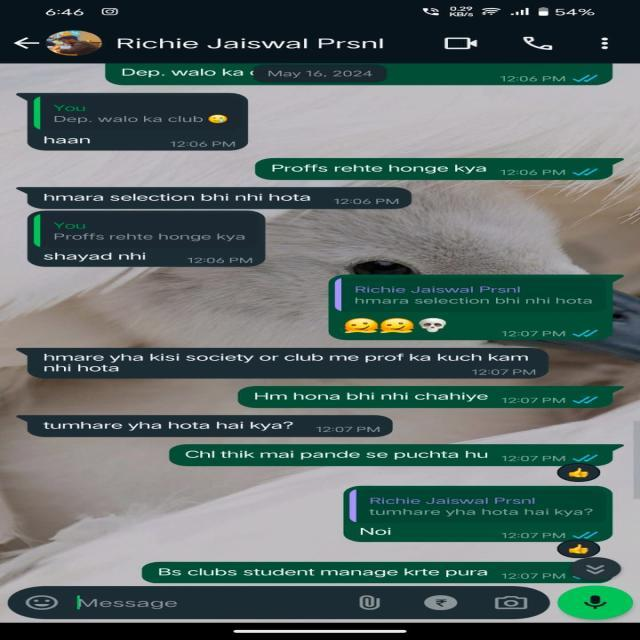scam: (31, 348, 538, 378), (25, 188, 318, 208), (34, 416, 305, 434), (31, 248, 178, 266), (34, 132, 101, 152)
